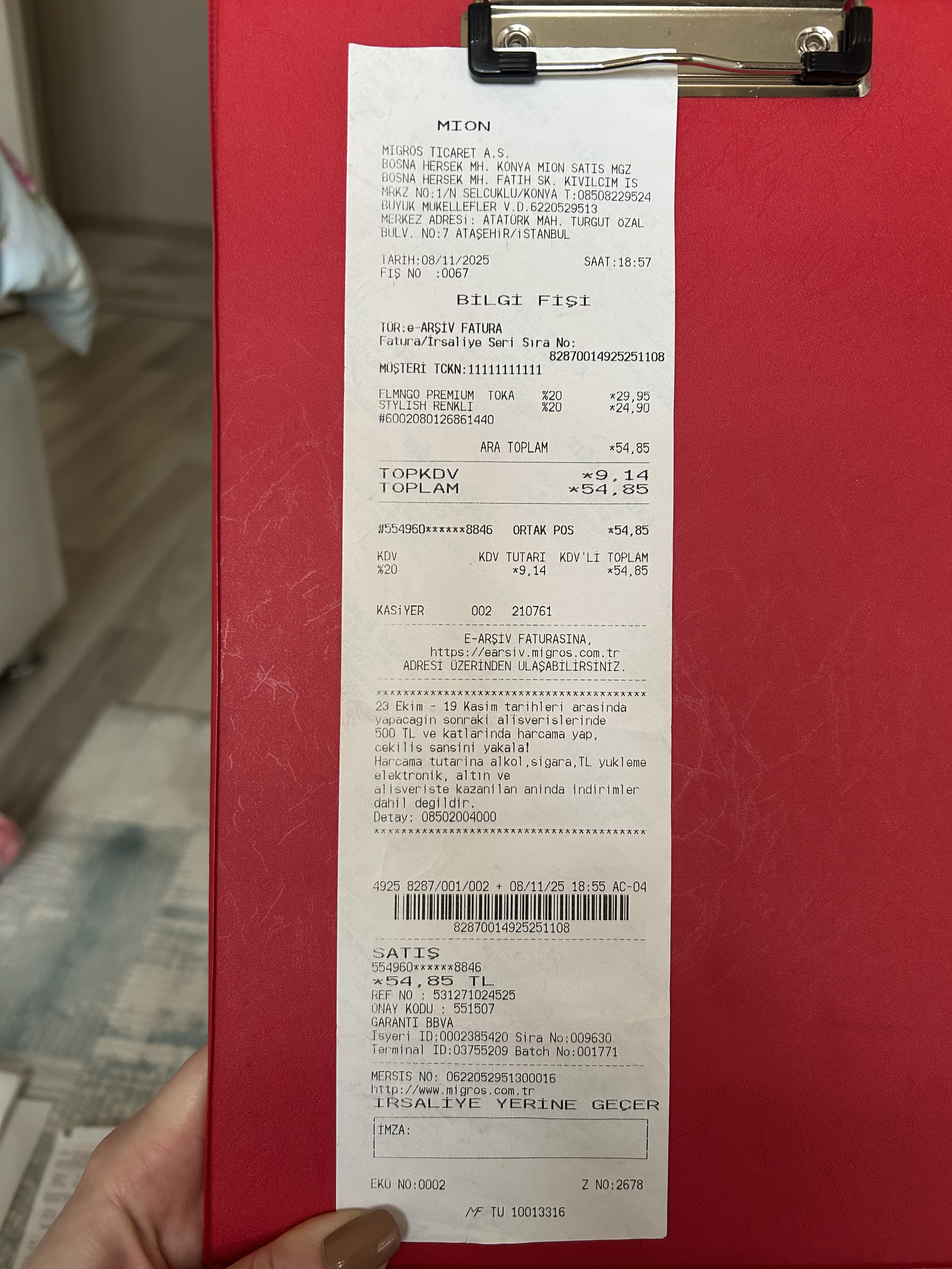date: (420, 253, 491, 265)
price: (580, 481, 653, 500)
workplace: (363, 113, 651, 203)
